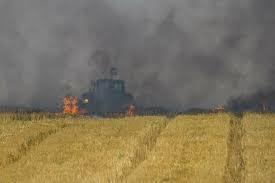fire: (61, 96, 80, 116), (123, 102, 139, 119), (209, 101, 228, 114)
smoke: (0, 0, 275, 114)
